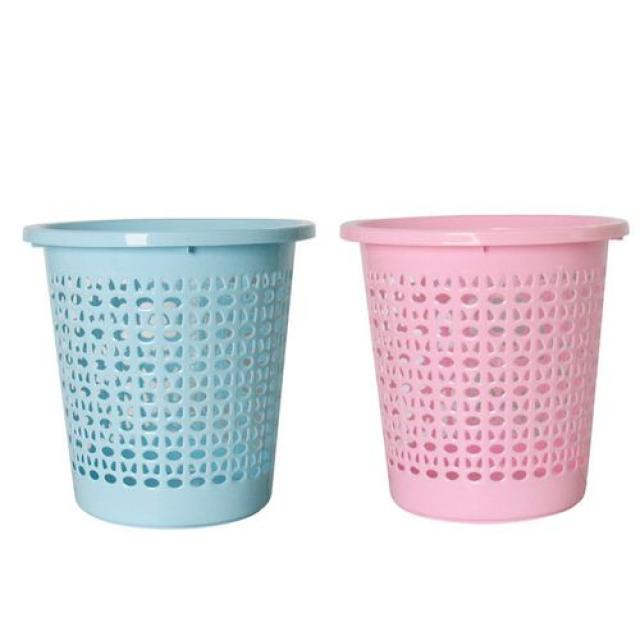dustbin: (18, 209, 320, 539), (334, 207, 635, 526)
